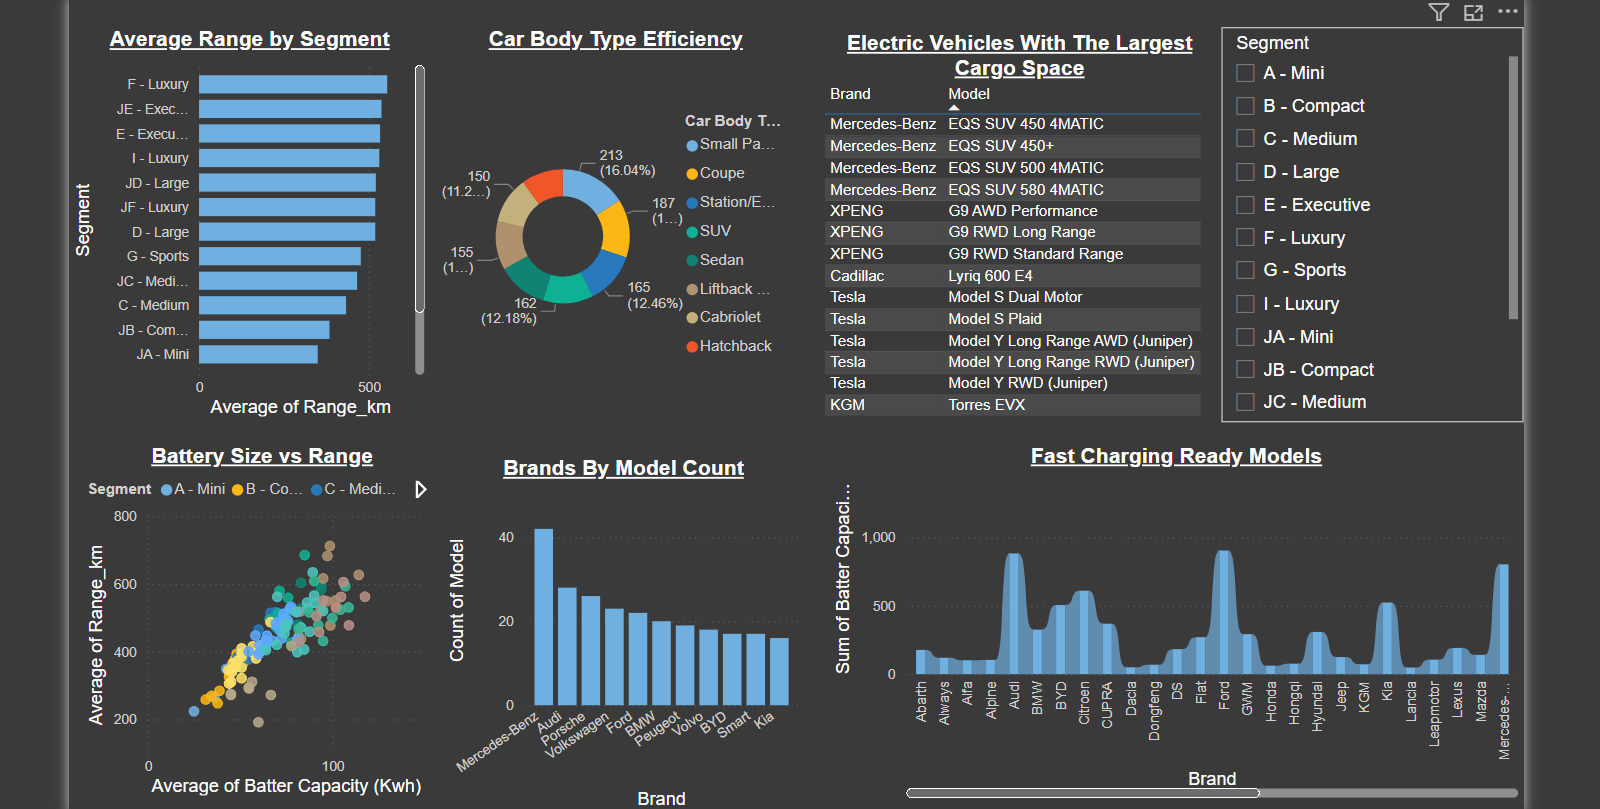

This screenshot's page, from the dashboard's own definition file:
{"tool":"powerbi","page":{"name":"Page 1","canvas":[1280,720],"ordinal":0},"visuals":[{"type":"clusteredBarChart","title":"Average Range by Segment","fields":{"Y":["Avg(electric_vehicles_spec_2025 csv.Range_km)"],"Category":["electric_vehicles_spec_2025 csv.Segment"]},"box":[0,27.5,317.8,347.5],"z":0},{"type":"scatterChart","title":"Battery Size vs Range","fields":{"X":["Avg(electric_vehicles_spec_2025 csv.Batter Capacity (Kwh))"],"Y":["Avg(electric_vehicles_spec_2025 csv.Range_km)"],"Series":["electric_vehicles_spec_2025 csv.Segment"],"Category":["electric_vehicles_spec_2025 csv.Brand"]},"box":[11,394,318,315],"z":1000},{"type":"donutChart","title":"Car Body Type Efficiency","fields":{"Category":["electric_vehicles_spec_2025 csv.Car Body Type"],"Y":["Avg(electric_vehicles_spec_2025 csv.Efficiency (wp/km))"]},"box":[322.2,27.5,317.8,347.5],"z":2000},{"type":"columnChart","title":"Brands By Model Count","fields":{"Category":["electric_vehicles_spec_2025 csv.Brand"],"Y":["CountNonNull(electric_vehicles_spec_2025 csv.Model)"]},"box":[328.6,404.4,318,315],"z":3000},{"type":"tableEx","title":"Electric Vehicles With The Largest Cargo Space","fields":{"Values":["electric_vehicles_spec_2025 csv.Brand","electric_vehicles_spec_2025 csv.Model"]},"box":[658.6,30.8,355.2,344.2],"z":4000},{"type":"ribbonChart","title":"Fast Charging Ready Models","fields":{"Category":["electric_vehicles_spec_2025 csv.Brand","electric_vehicles_spec_2025 csv.Model"],"Y":["Sum(electric_vehicles_spec_2025 csv.Batter Capacity (Kwh))"]},"box":[668.5,393.6,611.4,316.7],"z":5000},{"type":"slicer","fields":{"Values":["electric_vehicles_spec_2025 csv.Segment"]},"box":[1013.8,27.5,266.1,347.5],"z":6000}]}

Visuals, with their boxes on the page's 1280x720 design canvas (x1, y1, x2, y2). These are canvas units, not pixel positions in the 1600x809 screenshot, which may show the page scaled, cropped or inside an application window:
"Average Range by Segment" clusteredBarChart: <region>0, 28, 318, 375</region>
"Battery Size vs Range" scatterChart: <region>11, 394, 329, 709</region>
"Car Body Type Efficiency" donutChart: <region>322, 28, 640, 375</region>
"Brands By Model Count" columnChart: <region>329, 404, 647, 719</region>
"Electric Vehicles With The Largest Cargo Space" tableEx: <region>659, 31, 1014, 375</region>
"Fast Charging Ready Models" ribbonChart: <region>668, 394, 1280, 710</region>
slicer - electric_vehicles_spec_2025 csv.Segment: <region>1014, 28, 1280, 375</region>
